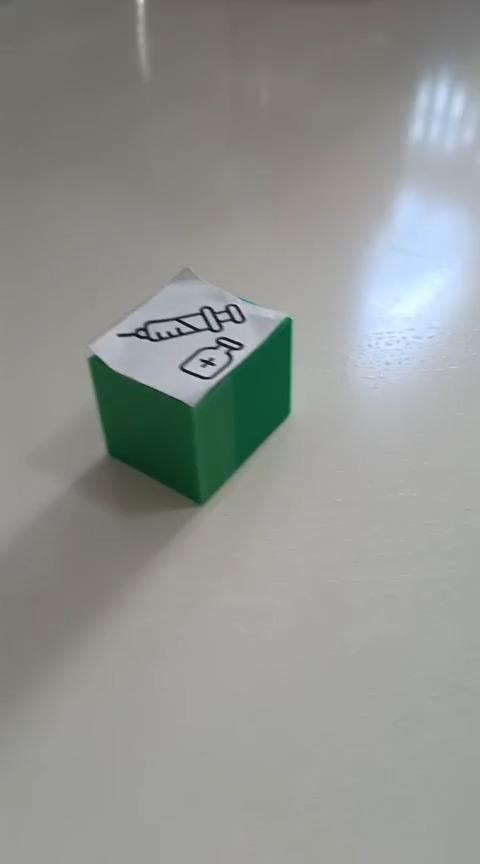antiseptic cream: (84, 264, 294, 506)
